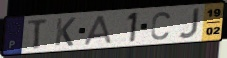1: (126, 11, 141, 44)
A: (82, 14, 114, 47)
C: (149, 10, 172, 41)
J: (177, 7, 202, 40)
K: (53, 17, 77, 48)
T: (27, 17, 50, 51)
